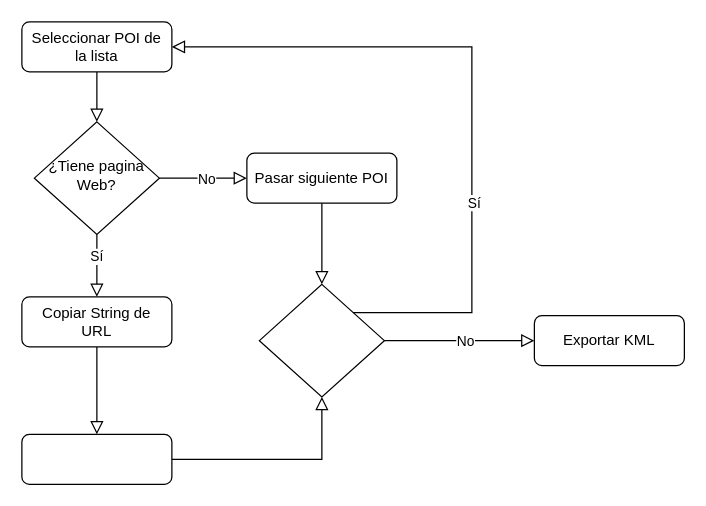
Some shapes in this 706 by 506 pixel diagram are drawn without their labels. The shapes that lost their labels are listed below. From the top down, each one's centre as x and y in pixels, then its label:
At (x=321, y=340): "¿Hay más POIs?".
At (x=96, y=458): "Insertar en descripción del POI".
